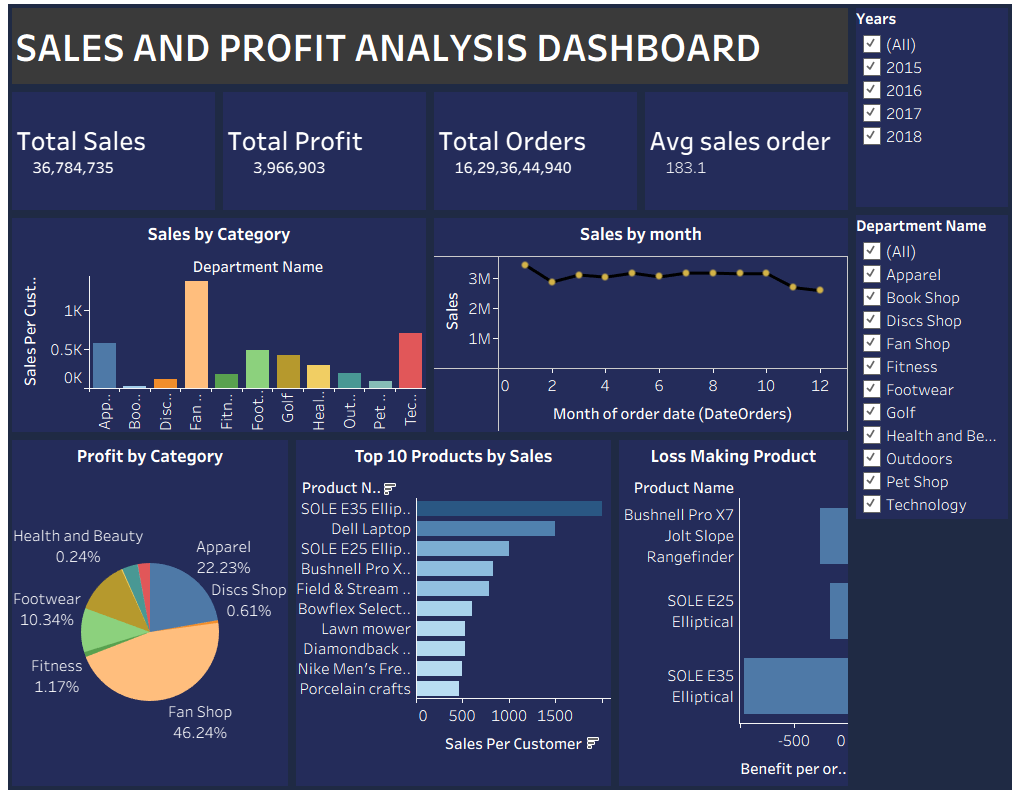

What the dashboard file says about the page in this screenshot:
{"tool":"tableau","page":{"name":"Dashboard 1","canvas":[1000,1000],"units":"permille","ordinal":0},"visuals":[{"type":"text","box":[7.8,10,827.5,104.7]},{"type":"filter","title":"Sales by month","param":"[federated.0d3o7rv0djwa3w19wdp9q05zq79m].[yr:order date (DateOrders):ok]","box":[835.3,10,156.9,258.1]},{"type":"worksheet","title":"Total Sales","mark":"Automatic","box":[7.8,114.7,206.9,157.1]},{"type":"worksheet","title":"Total Profit","mark":"Automatic","box":[214.7,114.7,206.9,157.1]},{"type":"worksheet","title":"Total orders","mark":"Automatic","box":[421.6,114.7,206.9,157.1]},{"type":"worksheet","title":"Avg order","mark":"Automatic","box":[628.4,114.7,206.9,157.1]},{"type":"filter","title":"Top 10 Products by Sales","param":"[federated.0d3o7rv0djwa3w19wdp9q05zq79m].[none:Department Name:nk]","box":[835.3,268.1,156.9,389]},{"type":"worksheet","title":"Sales by Category","mark":"Automatic","rows":["Sales per customer"],"cols":["Department Name"],"box":[7.8,271.8,413.7,276.8]},{"type":"worksheet","title":"Sales by month","mark":"Line","rows":["Sales","Sales"],"cols":["order date (DateOrders)"],"box":[421.6,271.8,413.7,276.8]},{"type":"worksheet","title":"Profit by Category","mark":"Pie","box":[7.8,548.6,278.4,441.4]},{"type":"worksheet","title":"Top 10 Products by Sales","mark":"Automatic","rows":["Product Name"],"cols":["Sales per customer"],"box":[286.3,548.6,316.7,441.4]},{"type":"worksheet","title":"Loss Making Product","mark":"Automatic","rows":["Product Name"],"cols":["Benefit per order"],"box":[602.9,548.6,232.4,441.4]}]}

Visuals, with their boxes on the dashboard's canvas, which has no fixed pixel size, in thousandths of its width and height (x1, y1, x2, y2). These are canvas units, not pixel positions in the 1018x793 screenshot, which may show the page scaled, cropped or inside an application window:
text: <region>8, 10, 835, 115</region>
"Sales by month" filter: <region>835, 10, 992, 268</region>
"Total Sales" worksheet: <region>8, 115, 215, 272</region>
"Total Profit" worksheet: <region>215, 115, 422, 272</region>
"Total orders" worksheet: <region>422, 115, 628, 272</region>
"Avg order" worksheet: <region>628, 115, 835, 272</region>
"Top 10 Products by Sales" filter: <region>835, 268, 992, 657</region>
"Sales by Category" worksheet: <region>8, 272, 422, 549</region>
"Sales by month" worksheet (Line marks): <region>422, 272, 835, 549</region>
"Profit by Category" worksheet (Pie marks): <region>8, 549, 286, 990</region>
"Top 10 Products by Sales" worksheet: <region>286, 549, 603, 990</region>
"Loss Making Product" worksheet: <region>603, 549, 835, 990</region>
